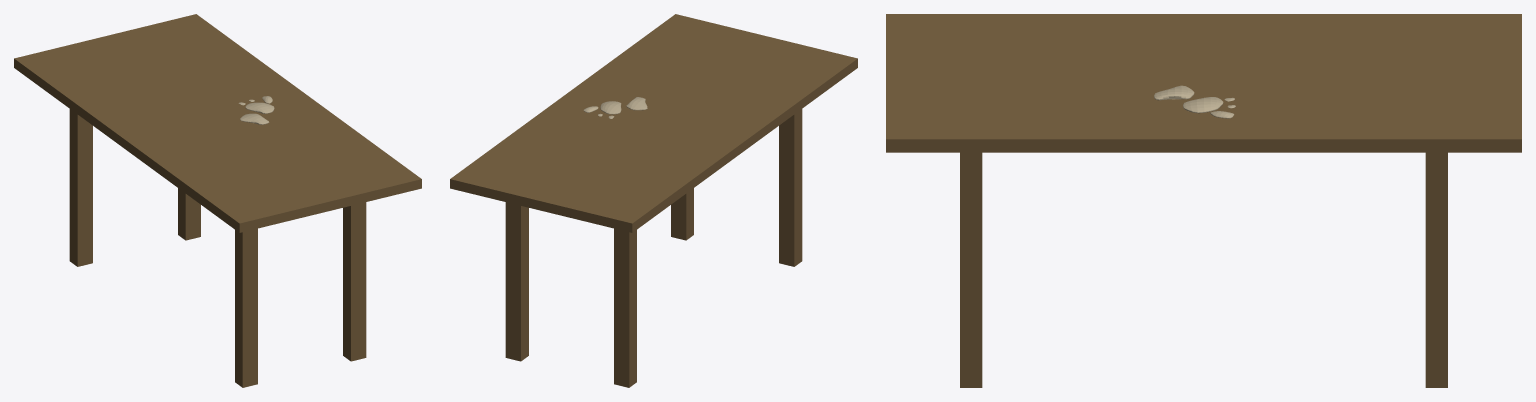
The model's file is Craft_Table_Burn.fbx.
The picture shows the model from 3 angles, left to right: view 1: azimuth 30°, elevation 25°; view 2: azimuth 150°, elevation 25°; view 3: azimuth 270°, elevation 25°; orthographic projection. The views are drawn at different scales.
Parts seen in each view (by area): view 1: Cube.015; view 2: Cube.015; view 3: Cube.015.
Part boxes in pixels (x1,y1,x2,y2): Cube.015: (14, 14, 421, 387); Cube.015: (450, 14, 857, 387); Cube.015: (886, 14, 1521, 387).
Bounding box in the file's own units: 70 × 71.23 × 150.
